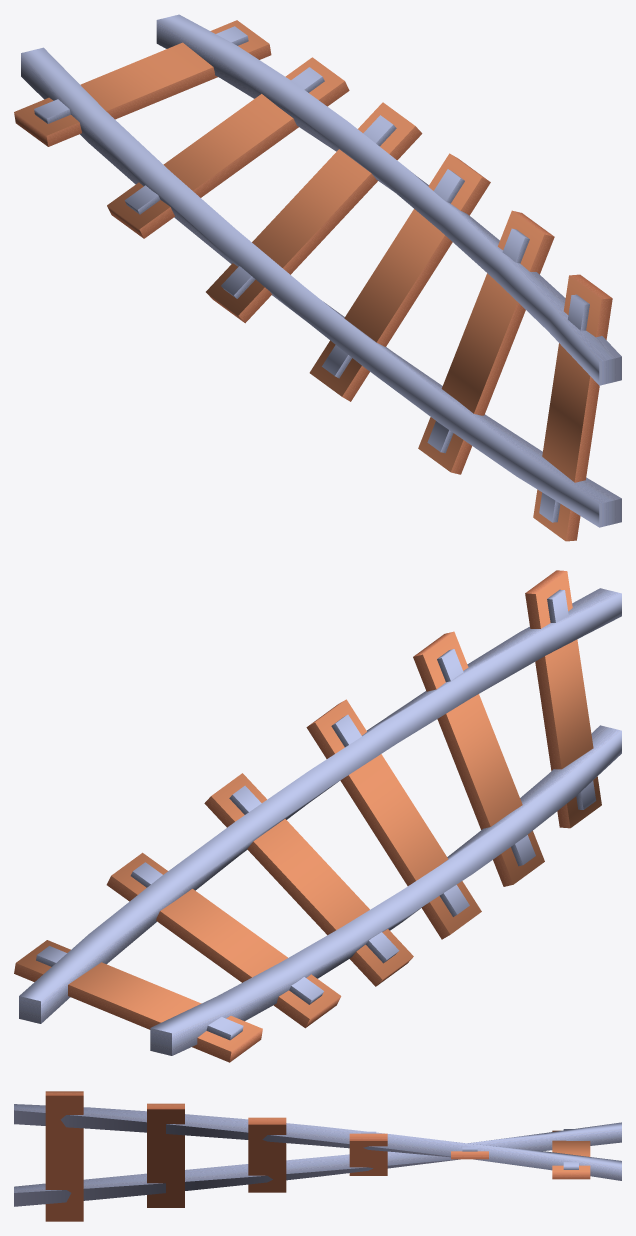
File: railroad-straight-skew-right-side.glb
3 views of the same model, one above another, from view 1: azimuth 30°, elevation 25°; view 2: azimuth 150°, elevation 25°; view 3: azimuth 270°, elevation 25° (orthographic). The views are drawn at different scales.
Visible parts, largest first — view 1: railroad-straight-skew-right-side; view 2: railroad-straight-skew-right-side; view 3: railroad-straight-skew-right-side.
Part boxes in pixels (box(x1,y1,x2,y2)): railroad-straight-skew-right-side: box(14, 14, 621, 541); railroad-straight-skew-right-side: box(14, 570, 621, 1062); railroad-straight-skew-right-side: box(14, 1091, 621, 1221).
Bounding box in the file's own units: 0.9951 × 0.9951 × 4.
1 material, 1 textured.
